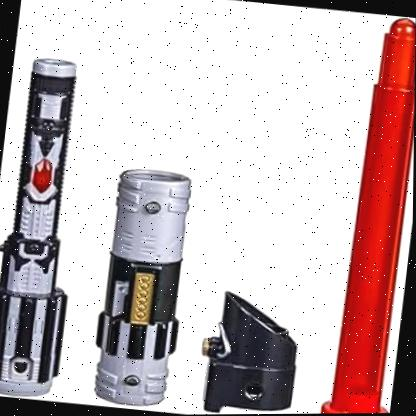sith_lightsaber: (309, 11, 416, 414), (77, 148, 211, 414), (0, 42, 96, 402), (190, 272, 316, 415)
